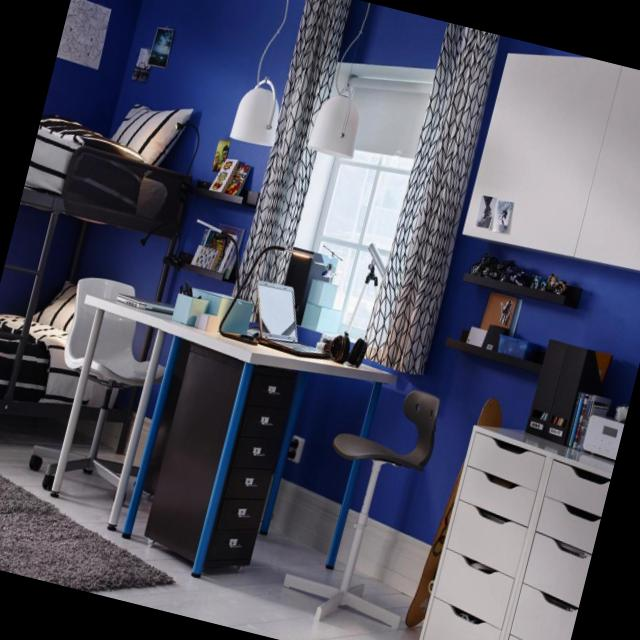obstacle: (10, 262, 328, 589), (407, 394, 622, 640), (272, 367, 457, 640)
